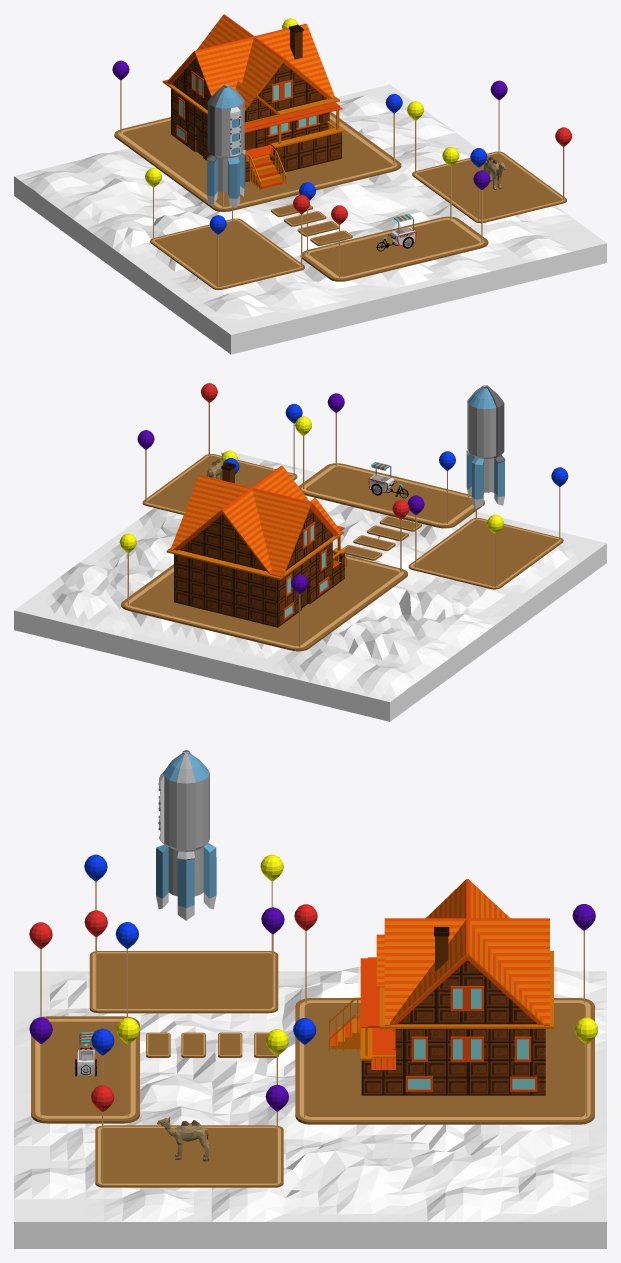
3 renders of one model, top to bottom at view 1: azimuth 30°, elevation 25°; view 2: azimuth 150°, elevation 25°; view 3: azimuth 270°, elevation 25°, orthographic. The views are drawn at different scales.
Visible parts, largest first — view 1: Cube.013, Cube, OBJRANDOM_ROCKETSHIP, VEHICLES_SNOWBAL_BIKE; view 2: Cube.013, Cube, OBJRANDOM_ROCKETSHIP, VEHICLES_SNOWBAL_BIKE; view 3: Cube.013, Cube, OBJRANDOM_ROCKETSHIP, ANIMAL_CAMELLO, VEHICLES_SNOWBAL_BIKE.
Part boxes in pixels (bbox=[...]): Cube.013: bbox=[14, 18, 606, 354]; Cube: bbox=[162, 14, 344, 190]; OBJRANDOM_ROCKETSHIP: bbox=[206, 84, 245, 207]; VEHICLES_SNOWBAL_BIKE: bbox=[376, 214, 416, 251]; Cube.013: bbox=[14, 383, 606, 721]; Cube: bbox=[166, 462, 347, 627]; OBJRANDOM_ROCKETSHIP: bbox=[466, 385, 505, 508]; VEHICLES_SNOWBAL_BIKE: bbox=[368, 462, 408, 498]; Cube.013: bbox=[14, 854, 606, 1248]; Cube: bbox=[328, 879, 553, 1095]; OBJRANDOM_ROCKETSHIP: bbox=[156, 750, 216, 920]; ANIMAL_CAMELLO: bbox=[157, 1116, 209, 1161]; VEHICLES_SNOWBAL_BIKE: bbox=[74, 1031, 97, 1076].
Bounding box in the file's own units: 4000 × 2354 × 4000.
34 materials, 2 textured.
